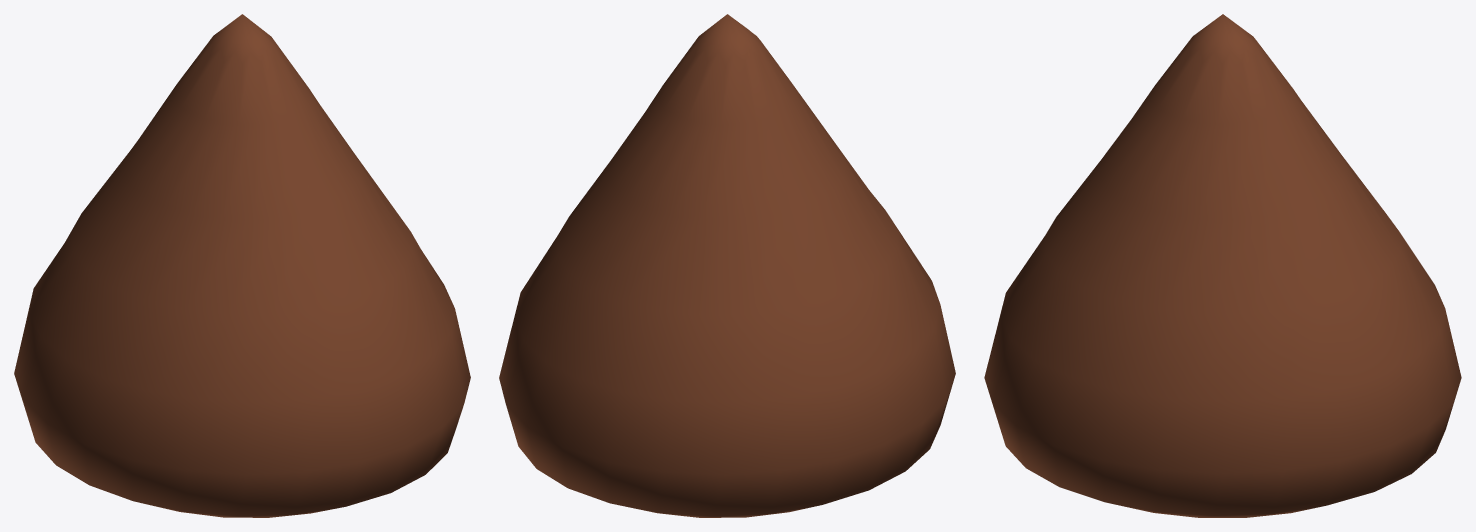
File: Candy_C_04.fbx
The picture shows the model from 3 angles, left to right: view 1: azimuth 30°, elevation 25°; view 2: azimuth 150°, elevation 25°; view 3: azimuth 270°, elevation 25°; orthographic projection.
Parts seen in each view (by area): view 1: Candy_C_04_LOD0; view 2: Candy_C_04_LOD0; view 3: Candy_C_04_LOD0.
Part boxes in pixels (x1,y1,x2,y2): Candy_C_04_LOD0: (14, 14, 470, 517); Candy_C_04_LOD0: (499, 14, 955, 517); Candy_C_04_LOD0: (984, 14, 1461, 517).
Size of what is drawn, in the model's own units: 312 by 330 by 328.
